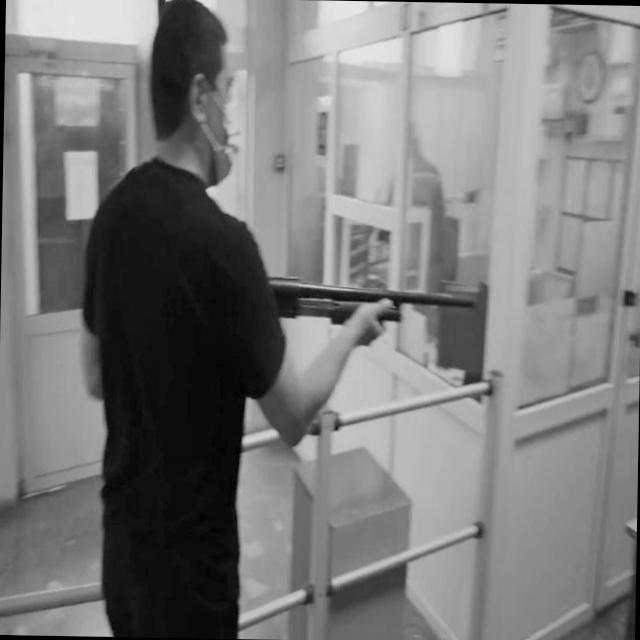gun: (210, 270, 480, 368)
person with a gun: (75, 0, 488, 640)
